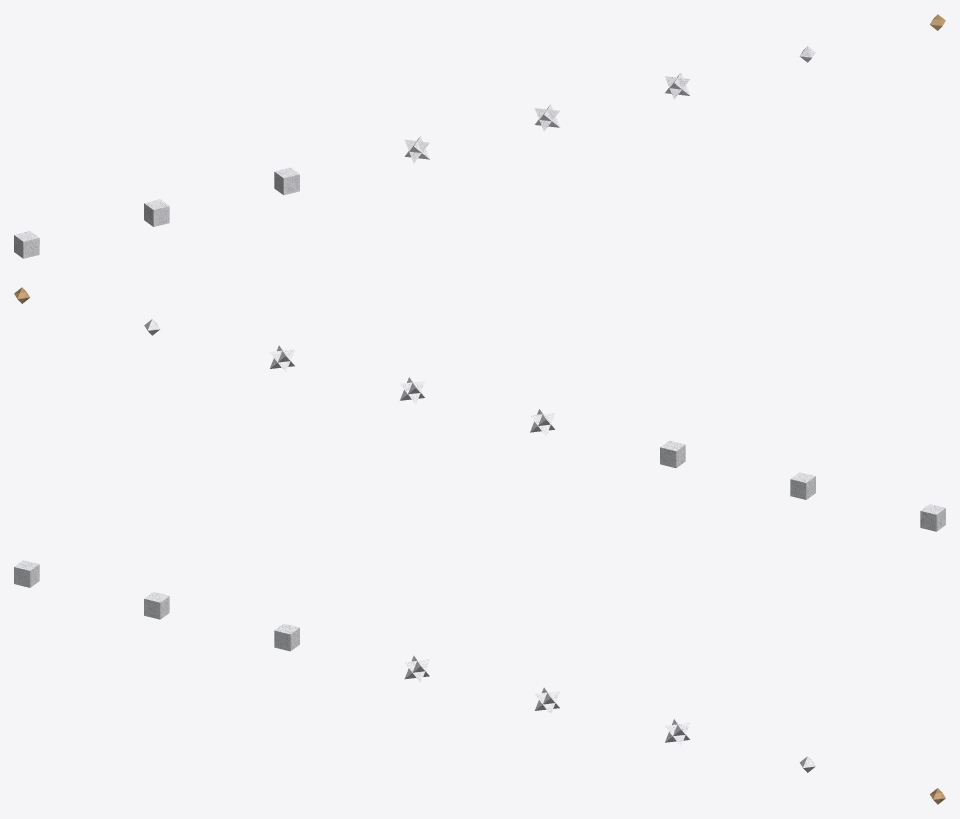
File: Octahedron.dae
The picture shows the model from 3 angles, top to bottom: view 1: azimuth 30°, elevation 25°; view 2: azimuth 150°, elevation 25°; view 3: azimuth 330°, elevation 25°; orthographic projection.
Visible parts, largest first — view 1: SketchUp (×3); view 2: SketchUp (×3); view 3: SketchUp (×3).
Part boxes in pixels (x1,y1,x2,y2): SketchUp (×3): (14,167,299,258); SketchUp (×3): (660,440,945,531); SketchUp (×3): (14,560,299,651).
Bounding box in the file's own units: 2244 × 39.37 × 39.37.
